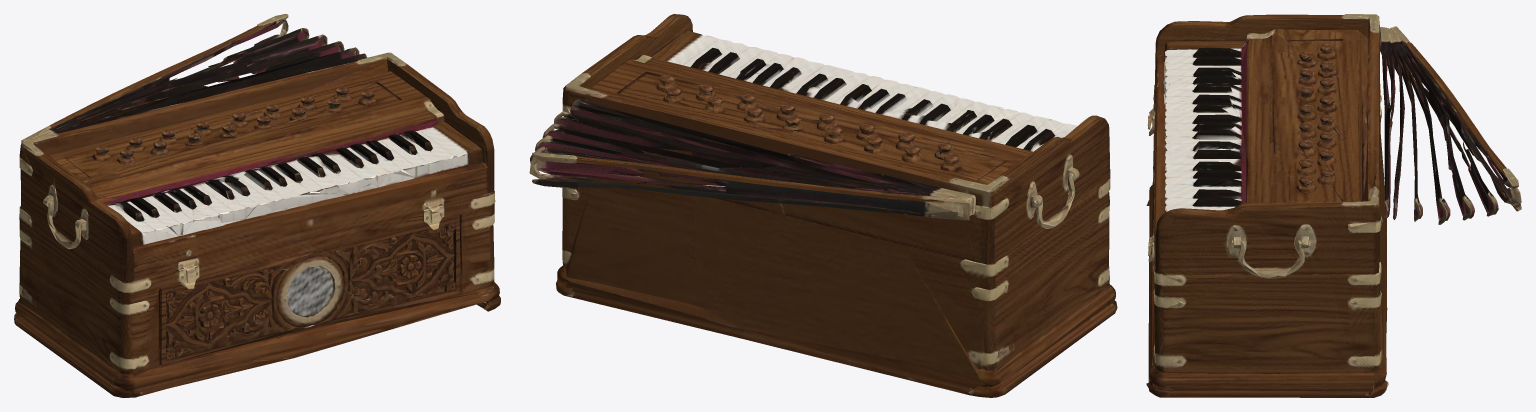
Rendered from harmonium.glb.
The picture shows the model from 3 angles, left to right: view 1: azimuth 30°, elevation 25°; view 2: azimuth 150°, elevation 25°; view 3: azimuth 270°, elevation 25°; orthographic projection. The views are drawn at different scales.
Parts seen in each view (by area): view 1: placed; view 2: placed; view 3: placed.
Boxes of the visible parts, bbox=[...] form: placed: bbox=[14, 14, 500, 397]; placed: bbox=[529, 14, 1117, 397]; placed: bbox=[1146, 14, 1521, 397].
Bounding box in the file's own units: 0.62 × 0.2747 × 0.4865.
1 material, 1 textured.
